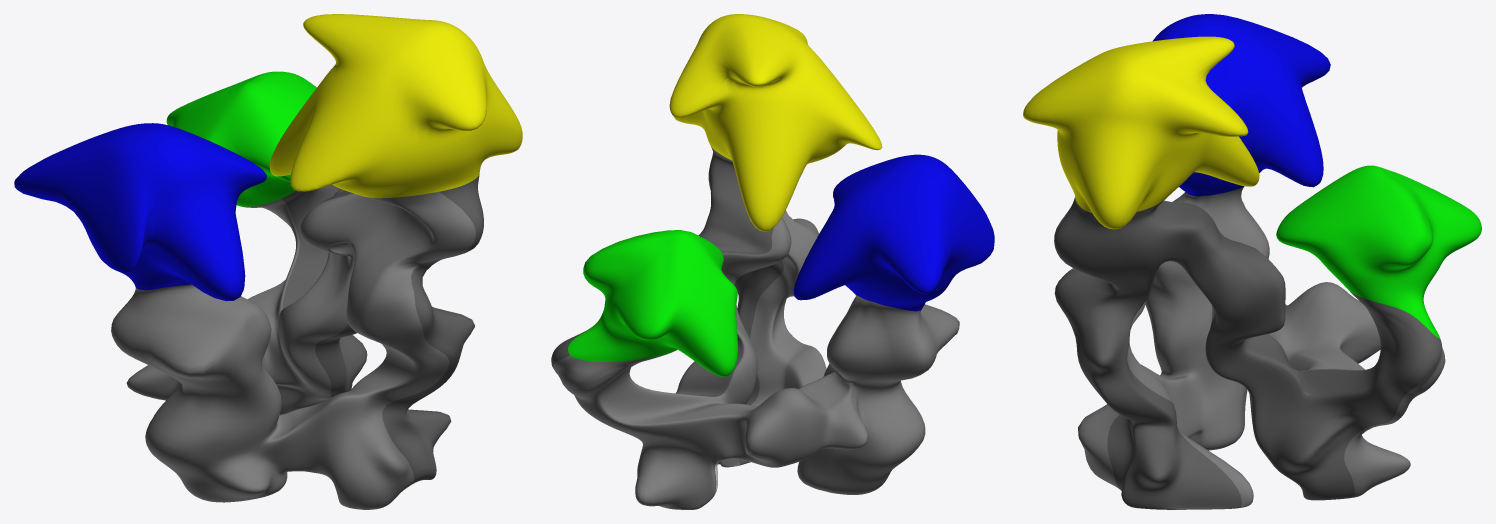
The model's file is Light_Plant_Grouping_02(new_map).fbx.
The picture shows the model from 3 angles, left to right: view 1: azimuth 30°, elevation 25°; view 2: azimuth 150°, elevation 25°; view 3: azimuth 270°, elevation 25°; orthographic projection. The views are drawn at different scales.
Visible parts, largest first — view 1: pSphere7; view 2: pSphere7; view 3: pSphere7.
Boxes of the visible parts, x1,y1,x2,y2 form: pSphere7: (14,14,522,509); pSphere7: (551,14,994,509); pSphere7: (1023,14,1481,509).
Size of the model in its own units: 10.14 by 10.29 by 11.22.
